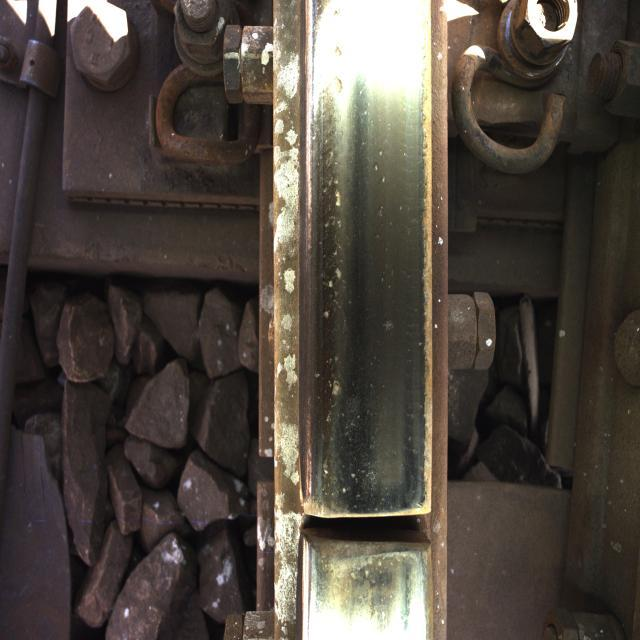spalling: (270, 474, 459, 598)
